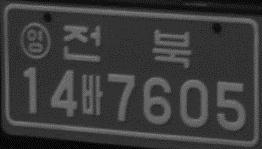0: (178, 79, 208, 128)
1: (16, 66, 46, 115)
4: (49, 70, 78, 117)
5: (216, 80, 246, 132)
6: (141, 76, 172, 125)
7: (107, 72, 135, 122)
바: (80, 73, 103, 118)
영: (19, 22, 51, 59)
전북_D: (62, 24, 192, 69)
